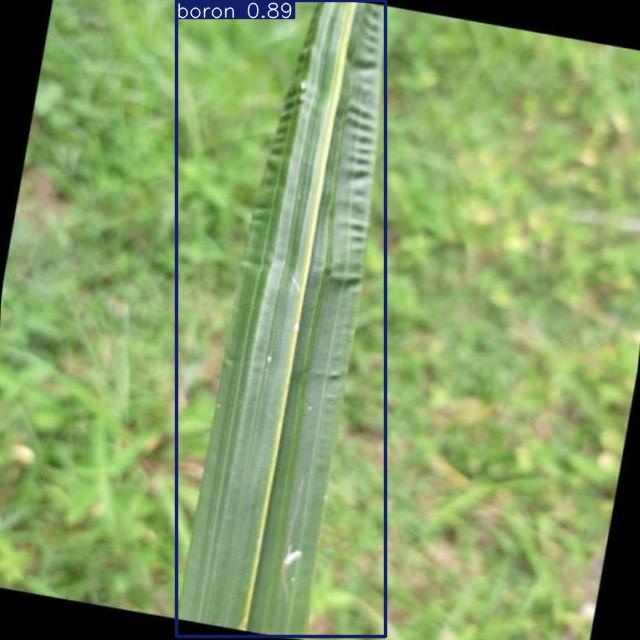nitrogen: (176, 1, 386, 637)
